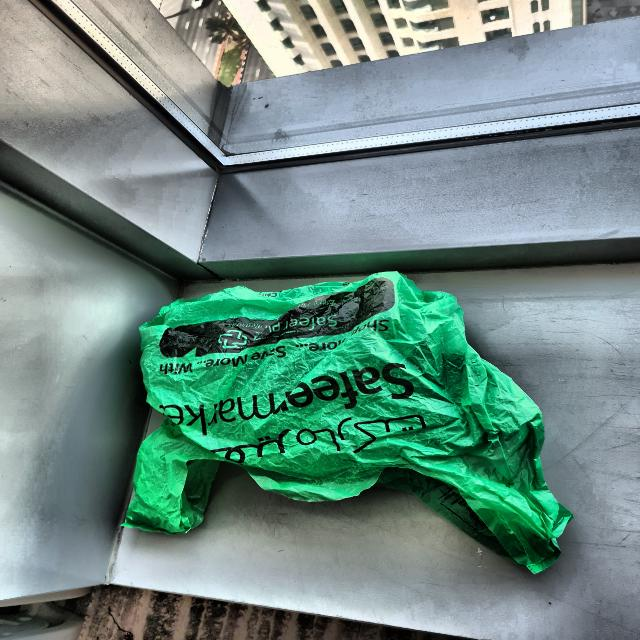plastic bag: (123, 272, 566, 554)
